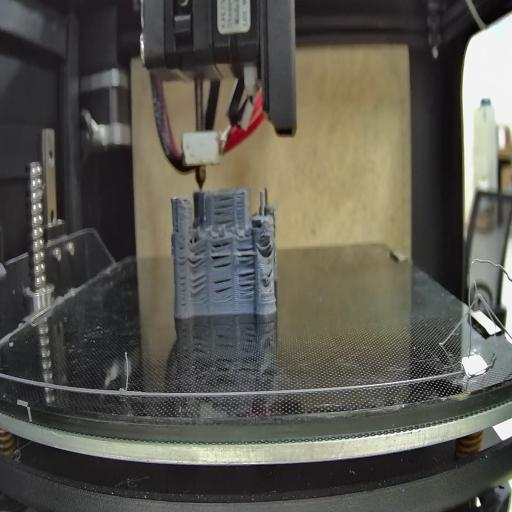cracks: (210, 237, 234, 272), (176, 246, 187, 308), (214, 195, 236, 226), (237, 269, 256, 300), (212, 275, 234, 301), (237, 242, 254, 268), (189, 247, 206, 270), (188, 273, 206, 294), (260, 238, 274, 258), (265, 264, 275, 283), (174, 219, 180, 234)
